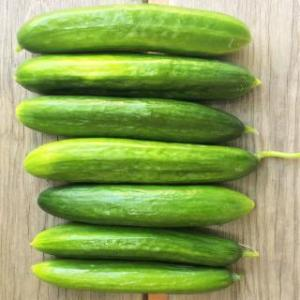cucumber: (18, 3, 252, 57), (14, 54, 262, 99), (11, 96, 249, 142), (24, 139, 260, 183), (30, 224, 246, 268), (37, 183, 257, 226), (29, 260, 241, 294)
